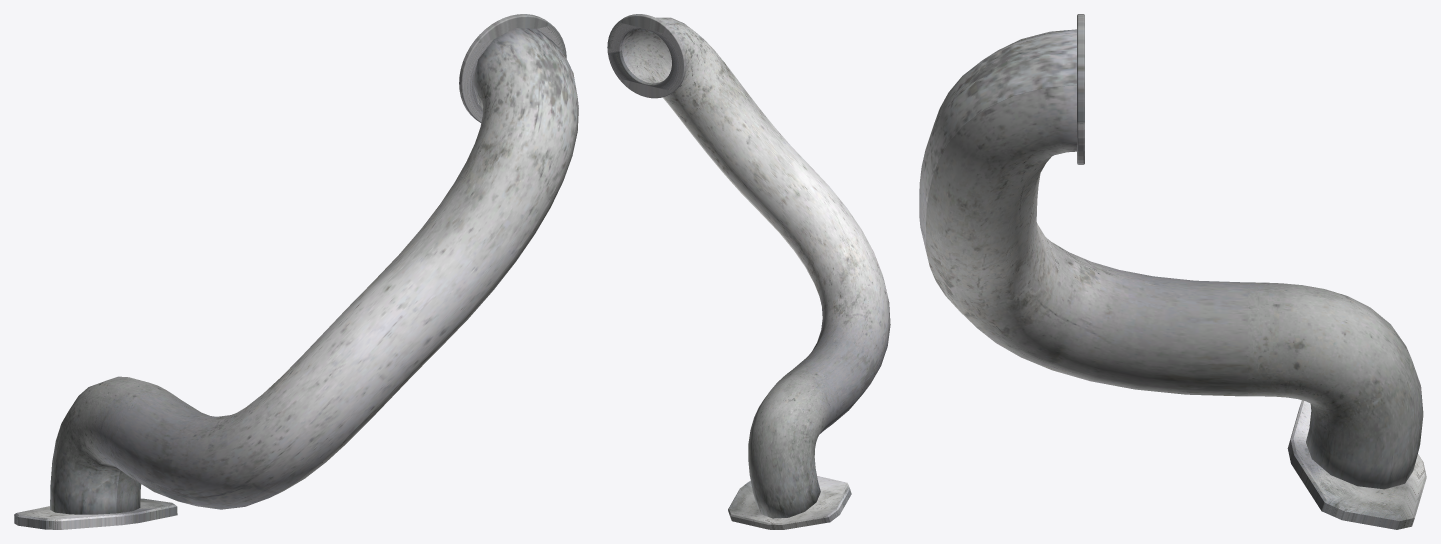
File: turboSmall_exhaust_outlet_tube.obj
3 renders of one model, left to right at view 1: azimuth 30°, elevation 25°; view 2: azimuth 150°, elevation 25°; view 3: azimuth 270°, elevation 25°, orthographic. The views are drawn at different scales.
Visible parts, largest first — view 1: TurboSmall_Exhaust_Outlet_Tube_Part_BezierCurve.031, TurboSmall-Exhaust-Outlet-Exhaust-Connector_Plane.002, Turbo-Small-Exhaust-Outlet-Tube-Turbo-Mounting_BezierCircle.009; view 2: TurboSmall_Exhaust_Outlet_Tube_Part_BezierCurve.031, Turbo-Small-Exhaust-Outlet-Tube-Turbo-Mounting_BezierCircle.009, TurboSmall-Exhaust-Outlet-Exhaust-Connector_Plane.002; view 3: TurboSmall_Exhaust_Outlet_Tube_Part_BezierCurve.031, TurboSmall-Exhaust-Outlet-Exhaust-Connector_Plane.002, Turbo-Small-Exhaust-Outlet-Tube-Turbo-Mounting_BezierCircle.009.
Boxes of the visible parts, <box> form: TurboSmall_Exhaust_Outlet_Tube_Part_BezierCurve.031: <box>50,28,578,514</box>; TurboSmall-Exhaust-Outlet-Exhaust-Connector_Plane.002: <box>14,498,177,529</box>; Turbo-Small-Exhaust-Outlet-Tube-Turbo-Mounting_BezierCircle.009: <box>459,14,566,122</box>; TurboSmall_Exhaust_Outlet_Tube_Part_BezierCurve.031: <box>622,17,890,518</box>; Turbo-Small-Exhaust-Outlet-Tube-Turbo-Mounting_BezierCircle.009: <box>607,14,686,98</box>; TurboSmall-Exhaust-Outlet-Exhaust-Connector_Plane.002: <box>728,476,851,529</box>; TurboSmall_Exhaust_Outlet_Tube_Part_BezierCurve.031: <box>919,29,1423,489</box>; TurboSmall-Exhaust-Outlet-Exhaust-Connector_Plane.002: <box>1287,400,1426,529</box>; Turbo-Small-Exhaust-Outlet-Tube-Turbo-Mounting_BezierCircle.009: <box>1077,14,1084,164</box>.
Size of the model in its own units: 0.2356 by 0.2763 by 0.1937.
